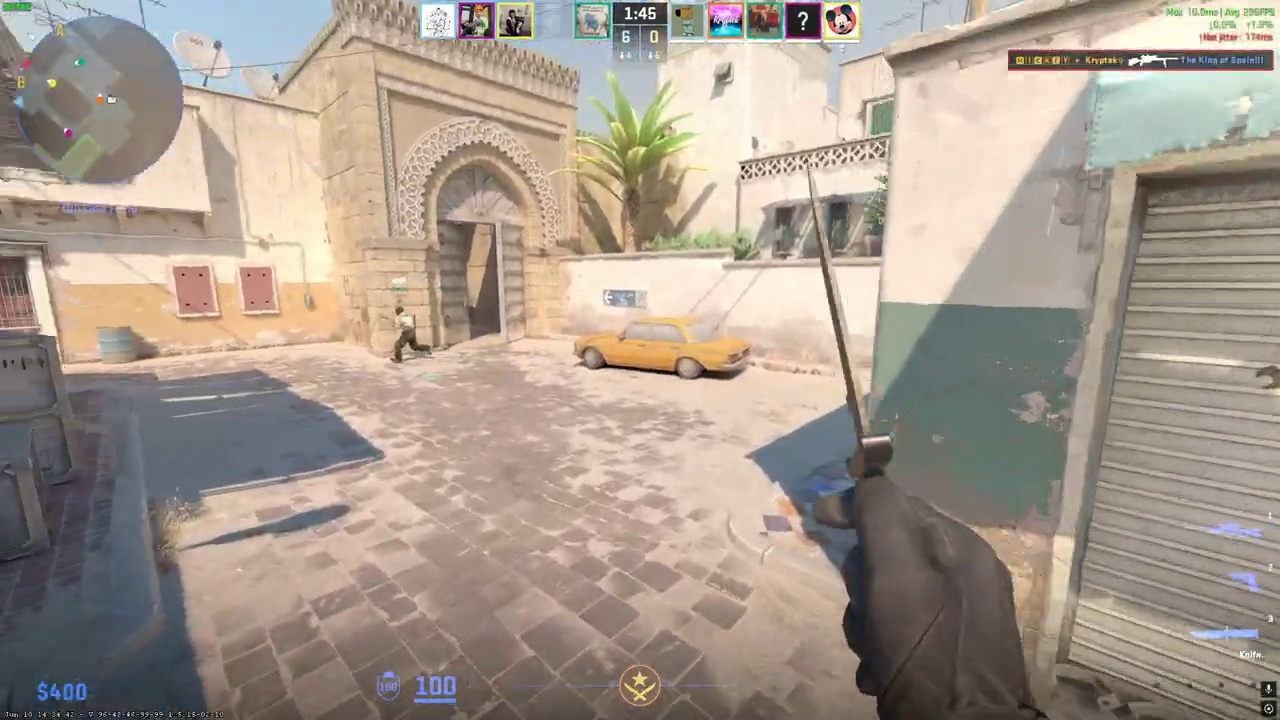Terrorist: (389, 305, 422, 363)
